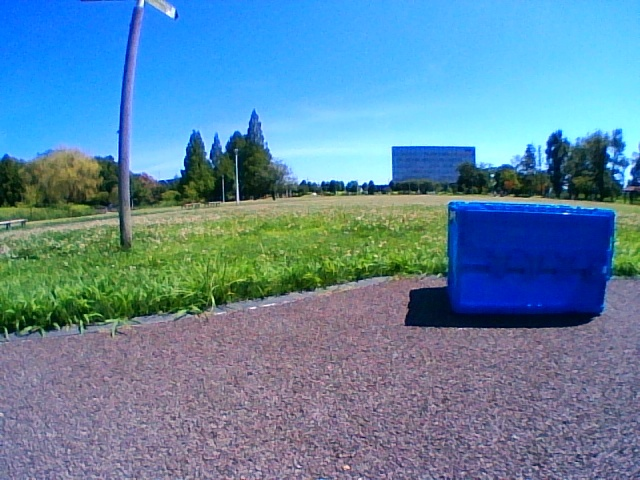blue_box: (449, 200, 613, 315)
